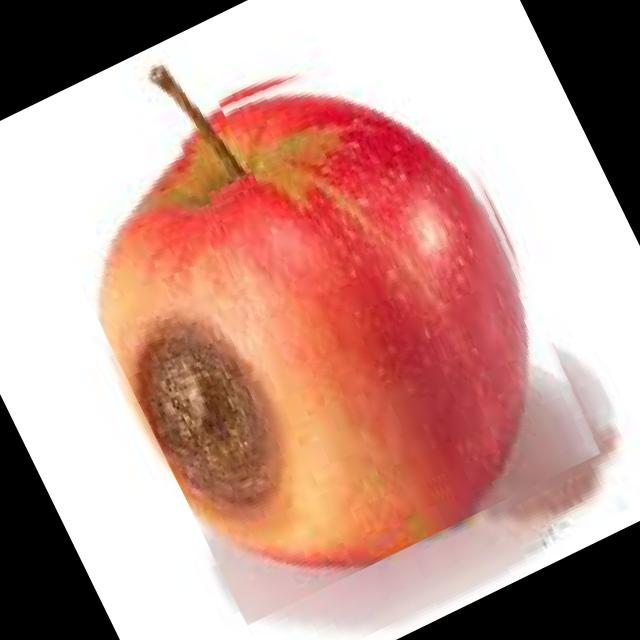Organic: (32, 3, 616, 624), (133, 34, 258, 209)
